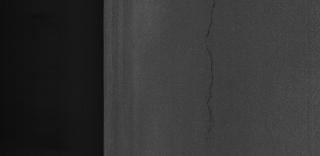water spot: (200, 2, 226, 134)
